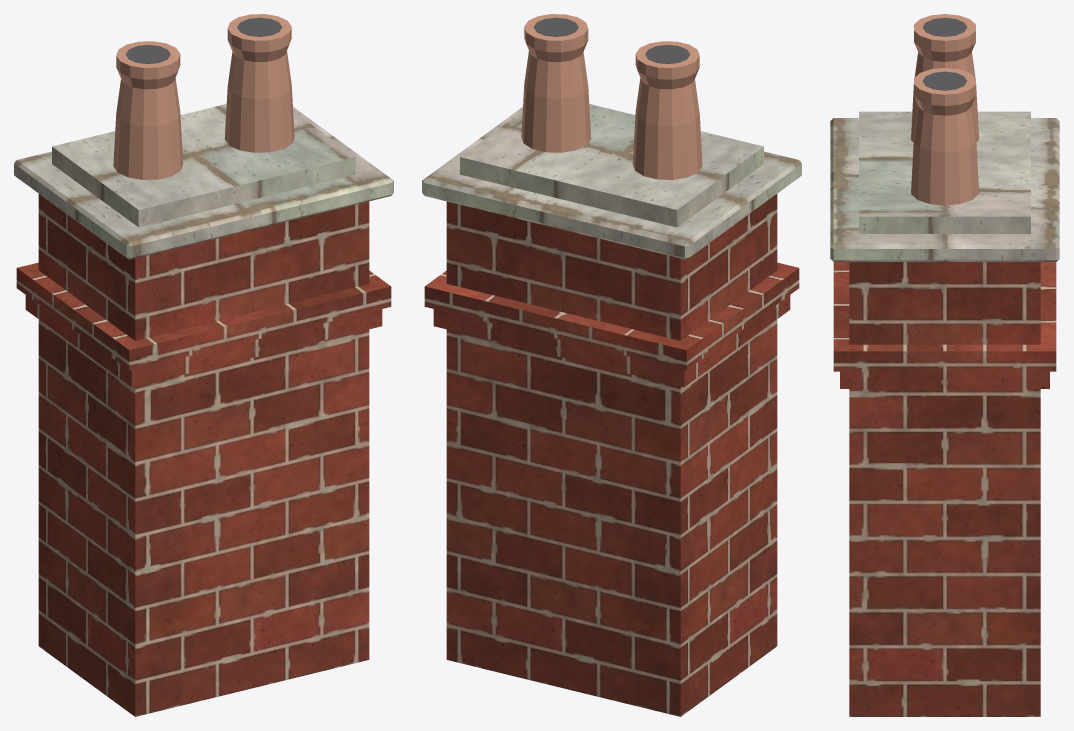
Rendered from chimney.glb.
The picture shows the model from 3 angles, left to right: view 1: azimuth 30°, elevation 25°; view 2: azimuth 150°, elevation 25°; view 3: azimuth 270°, elevation 25°; orthographic projection.
Visible parts, largest first — view 1: chimney_brick, chimney_cill, chimney_pot, chimney_dark; view 2: chimney_brick, chimney_cill, chimney_pot, chimney_dark; view 3: chimney_brick, chimney_cill, chimney_pot, chimney_dark.
Part boxes in pixels (x1,y1,x2,y2): chimney_brick: (16,194,391,716); chimney_cill: (14,104,393,259); chimney_pot: (113,14,294,179); chimney_dark: (126,17,282,63); chimney_brick: (424,194,799,716); chimney_cill: (422,104,801,259); chimney_pot: (521,14,702,179); chimney_dark: (533,17,689,63); chimney_brick: (833,262,1056,716); chimney_cill: (830,111,1059,261); chimney_pot: (911,14,978,205); chimney_dark: (922,17,967,90).
Bounding box in the file's own units: 0.96 × 2.1 × 0.72.
4 materials, 2 textured.
